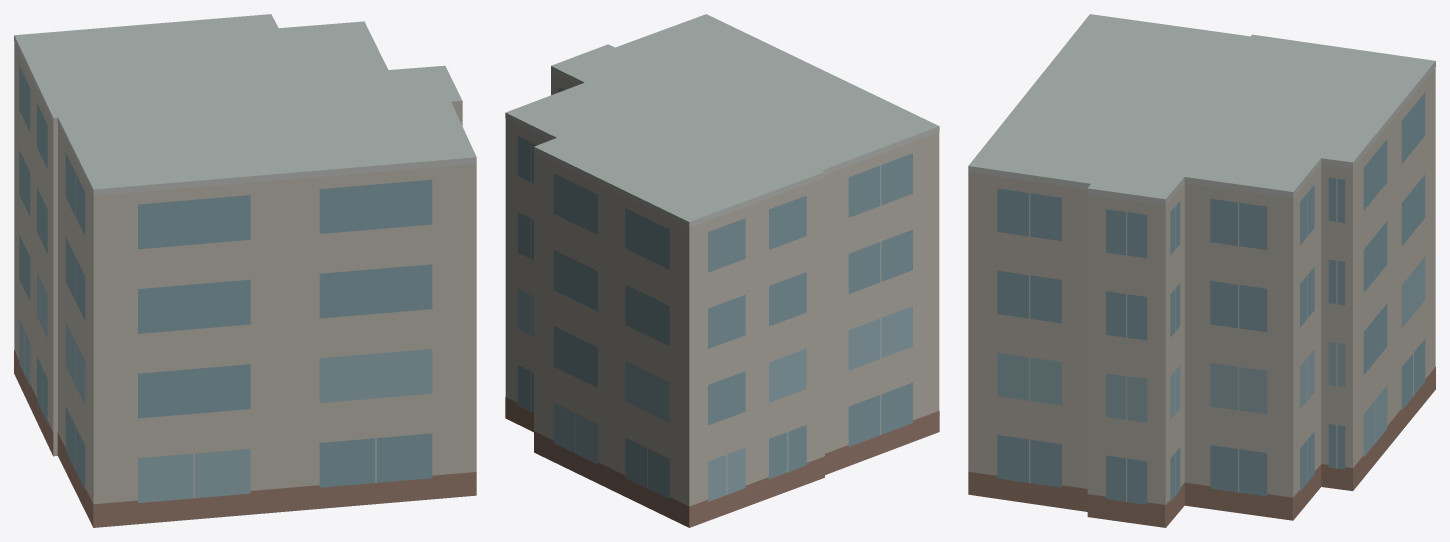
Rendered from survey-upis-32759576.glb.
The picture shows the model from 3 angles, left to right: view 1: azimuth 30°, elevation 25°; view 2: azimuth 150°, elevation 25°; view 3: azimuth 270°, elevation 25°; orthographic projection. The views are drawn at different scales.
Visible parts, largest first — view 1: survey-upis-32759576.tmp; view 2: survey-upis-32759576.tmp; view 3: survey-upis-32759576.tmp.
Boxes of the visible parts, left/top/right/bottom form: survey-upis-32759576.tmp: left=14, top=14, right=476, bottom=527; survey-upis-32759576.tmp: left=505, top=14, right=939, bottom=527; survey-upis-32759576.tmp: left=968, top=14, right=1435, bottom=527.
Size of the model in its own units: 15.61 by 12.9 by 16.64.
